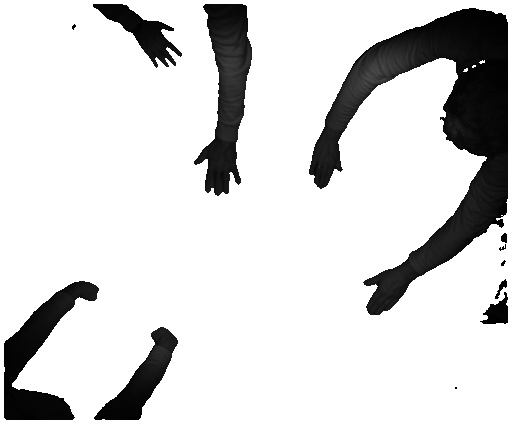fist: (151, 320, 183, 353), (77, 280, 103, 303)
hand: (192, 146, 246, 199), (360, 269, 410, 319), (135, 20, 183, 71), (304, 139, 343, 191)
